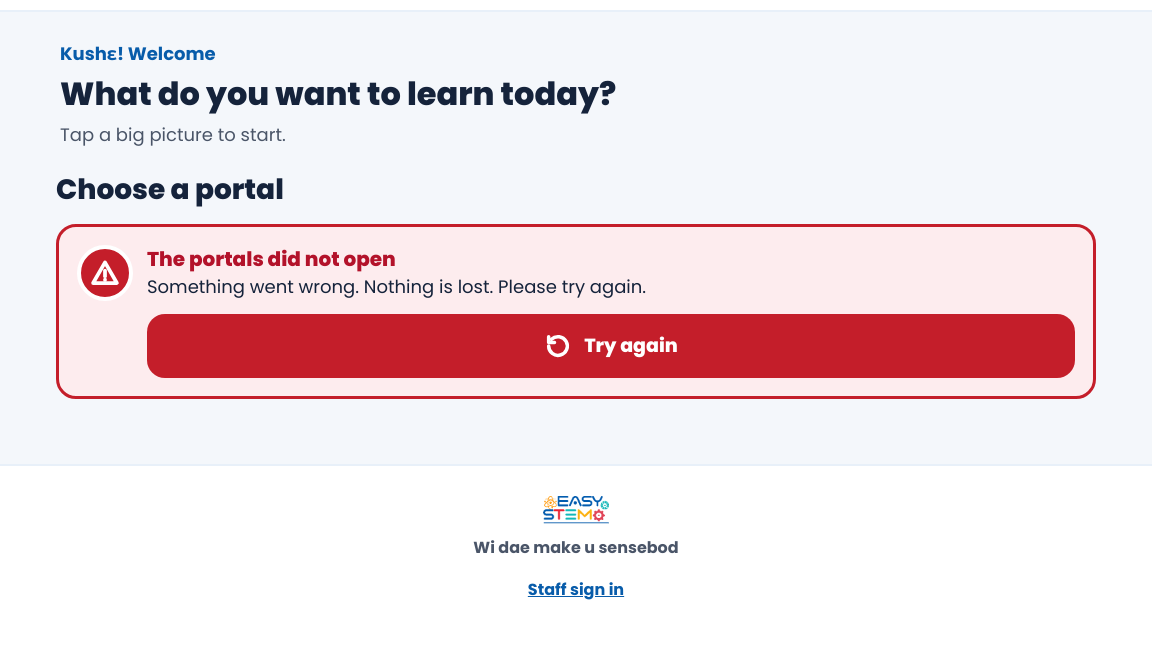
Test: Home (Main) › shows an error with Try again when the bag does not answer, and recovers
This screenshot has width=1152, height=646.
Expected: the message shows "The portals did not open", left=147, top=245, right=396, bottom=273
Click the button "Try again": (611, 346) left=147, top=314, right=1075, bottom=378
(page scrolled)
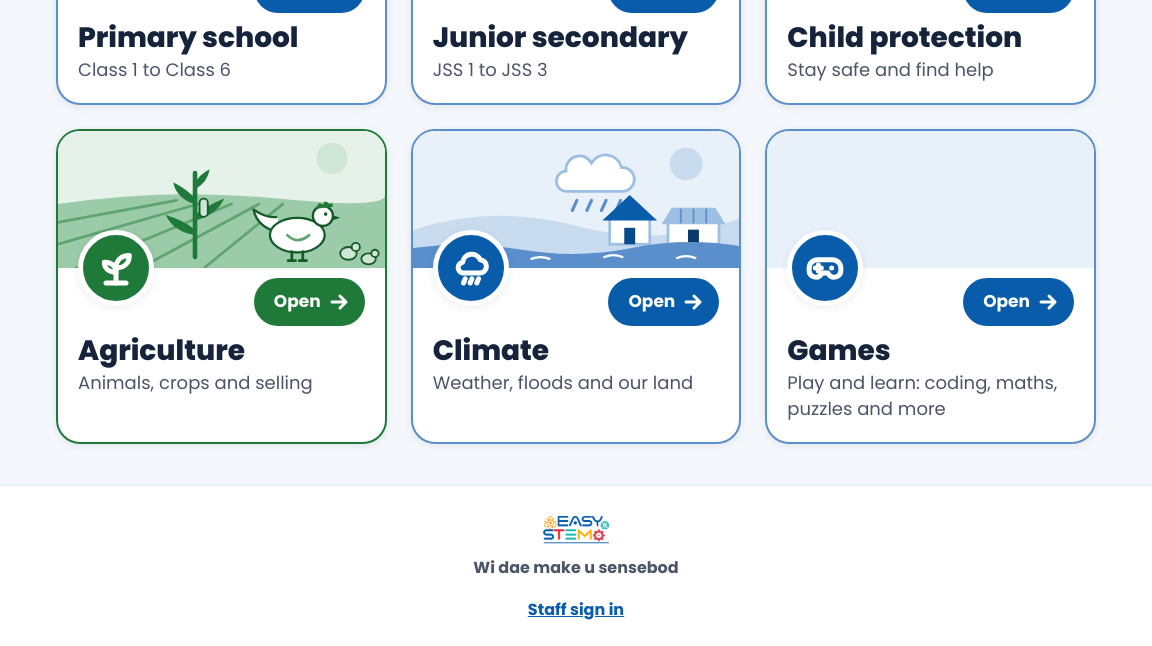
Result: the link "Open Climate Weather, floods and our land" is shown at left=411, top=129, right=741, bottom=444
Result: the message is gone
